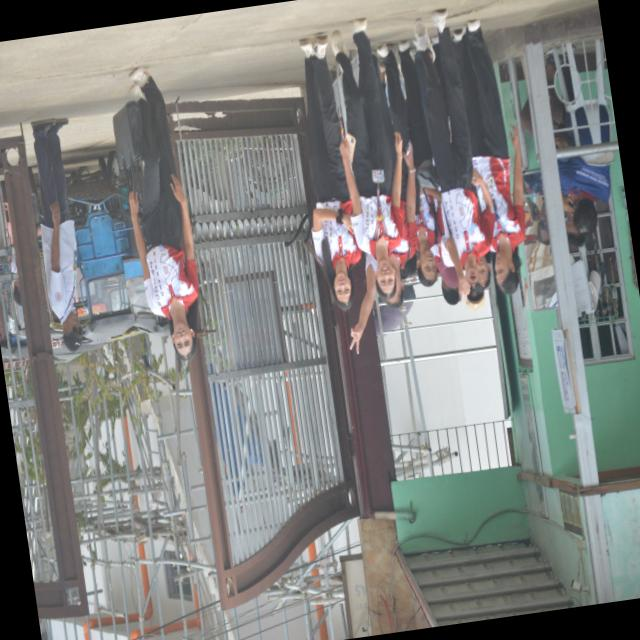person: (415, 9, 495, 309), (331, 18, 405, 298), (129, 66, 198, 359), (453, 19, 526, 293), (300, 35, 361, 309), (32, 117, 83, 351), (377, 40, 431, 167)
